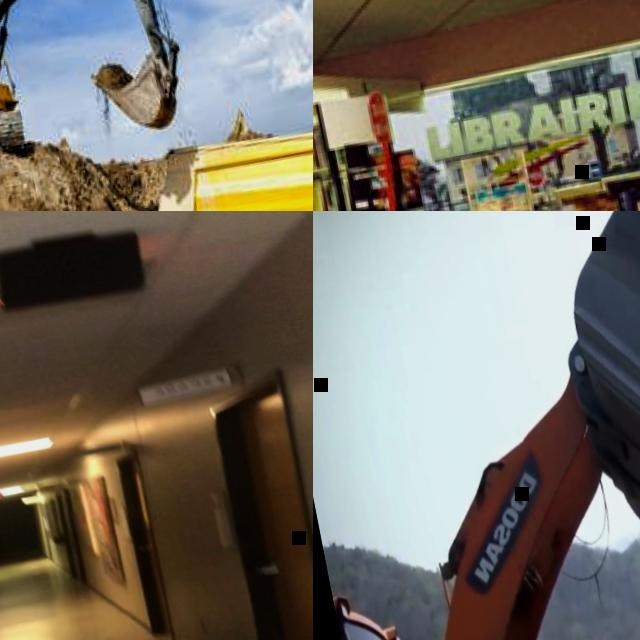machinery: (313, 211, 640, 640), (0, 0, 196, 191), (136, 94, 313, 211)
